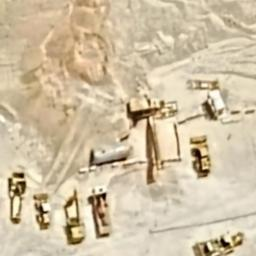others: (60, 187, 90, 247), (190, 227, 250, 256), (184, 132, 216, 182), (88, 184, 115, 240), (4, 170, 28, 228), (30, 189, 56, 235)
